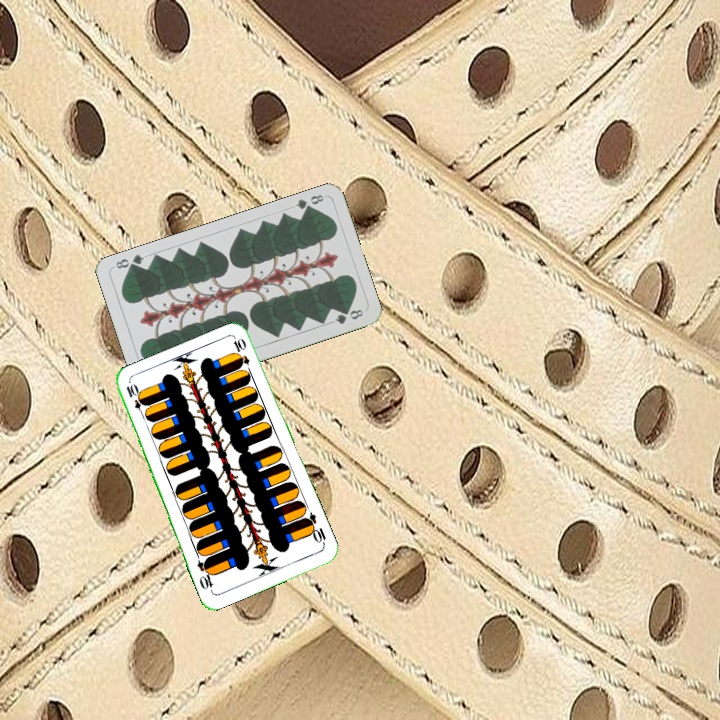E10: (301, 509, 329, 548), (122, 380, 148, 419)
G8: (292, 190, 326, 215)
